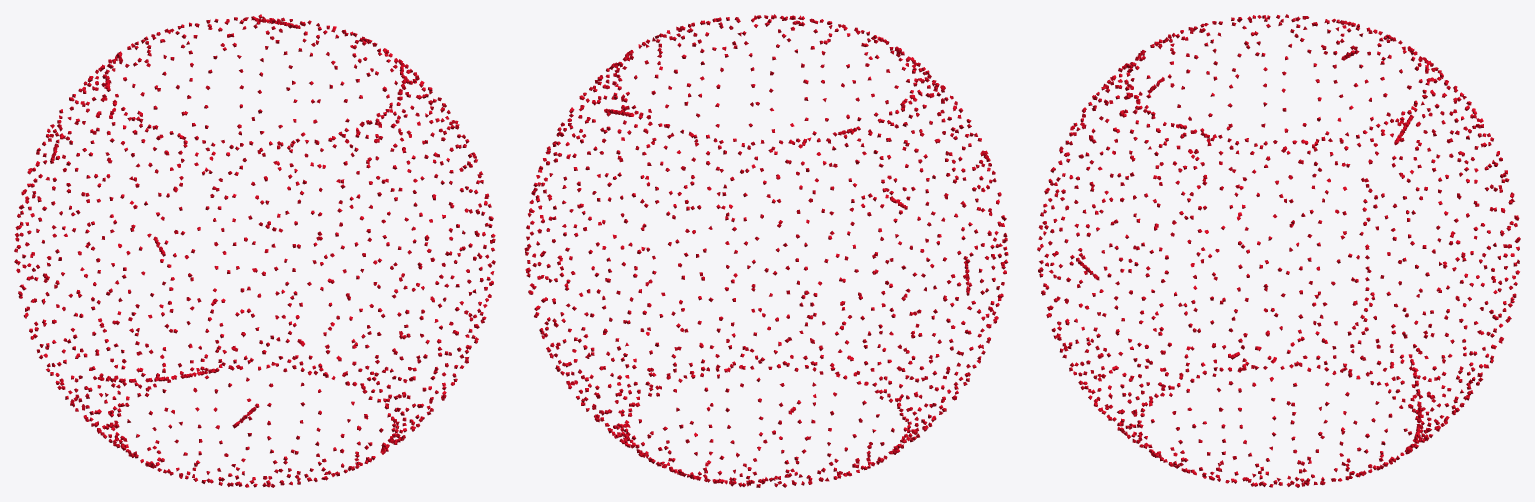
The model's file is starlink-2m.glb.
3 renders of one model, left to right at view 1: azimuth 30°, elevation 25°; view 2: azimuth 150°, elevation 25°; view 3: azimuth 270°, elevation 25°, orthographic.
Parts seen in each view (by area): view 1: Starlink - 2m; view 2: Starlink - 2m; view 3: Starlink - 2m.
Part boxes in pixels (left/top/right/bottom): Starlink - 2m: left=14, top=14, right=495, bottom=487; Starlink - 2m: left=524, top=14, right=1008, bottom=487; Starlink - 2m: left=1037, top=14, right=1520, bottom=487.
Bounding box in the file's own units: 0.377 × 0.369 × 0.3772.
